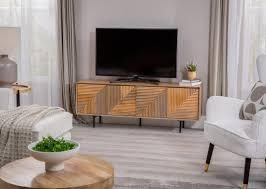TV: (95, 25, 183, 80)
chair: (203, 83, 265, 189)
console: (72, 82, 204, 130)
light: (0, 24, 24, 87)
sofa: (0, 80, 75, 169)
table: (0, 151, 115, 188)
